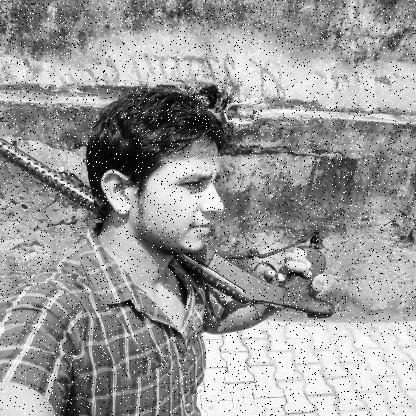rifle: (0, 137, 338, 321)
